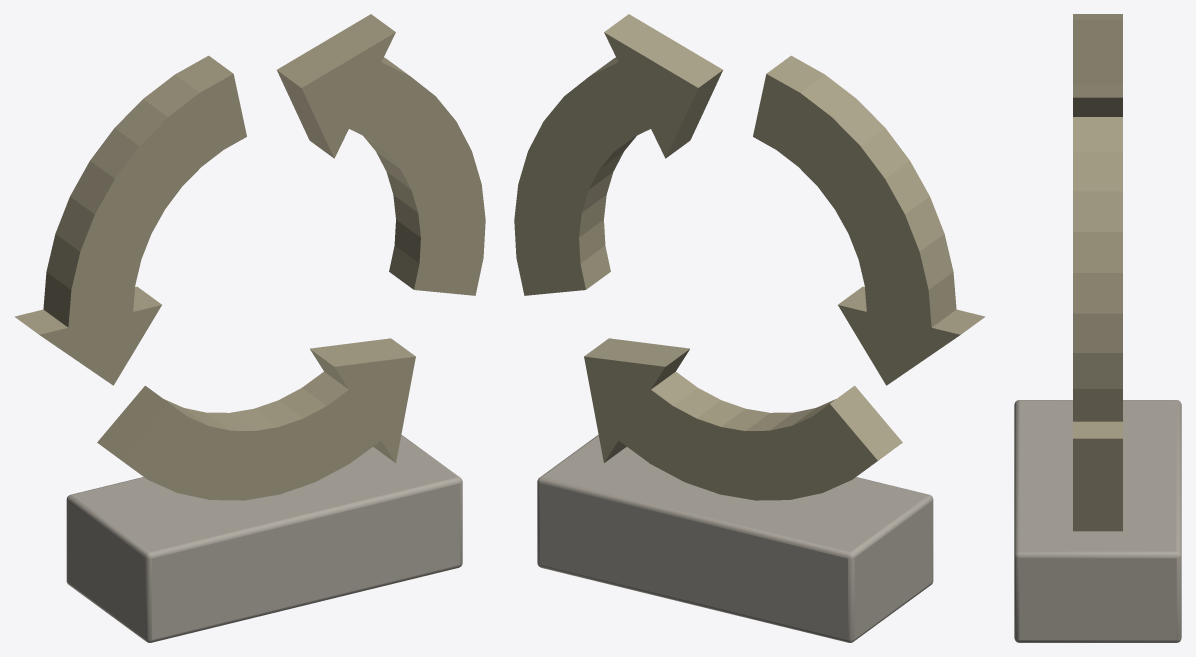
The model's file is recycle_sculpture.fbx.
3 views of the same model, side by side, from view 1: azimuth 30°, elevation 25°; view 2: azimuth 150°, elevation 25°; view 3: azimuth 270°, elevation 25° (orthographic).
Parts seen in each view (by area): view 1: recycle_sculpture; view 2: recycle_sculpture; view 3: recycle_sculpture.
Part boxes in pixels (box(x1,y1,x2,y2)): recycle_sculpture: box(14, 14, 485, 642); recycle_sculpture: box(514, 14, 985, 642); recycle_sculpture: box(1014, 14, 1181, 642).
Bounding box in the file's own units: 3.1 × 3.48 × 1.
